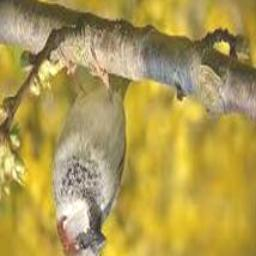Sparrow: (53, 62, 133, 256)
